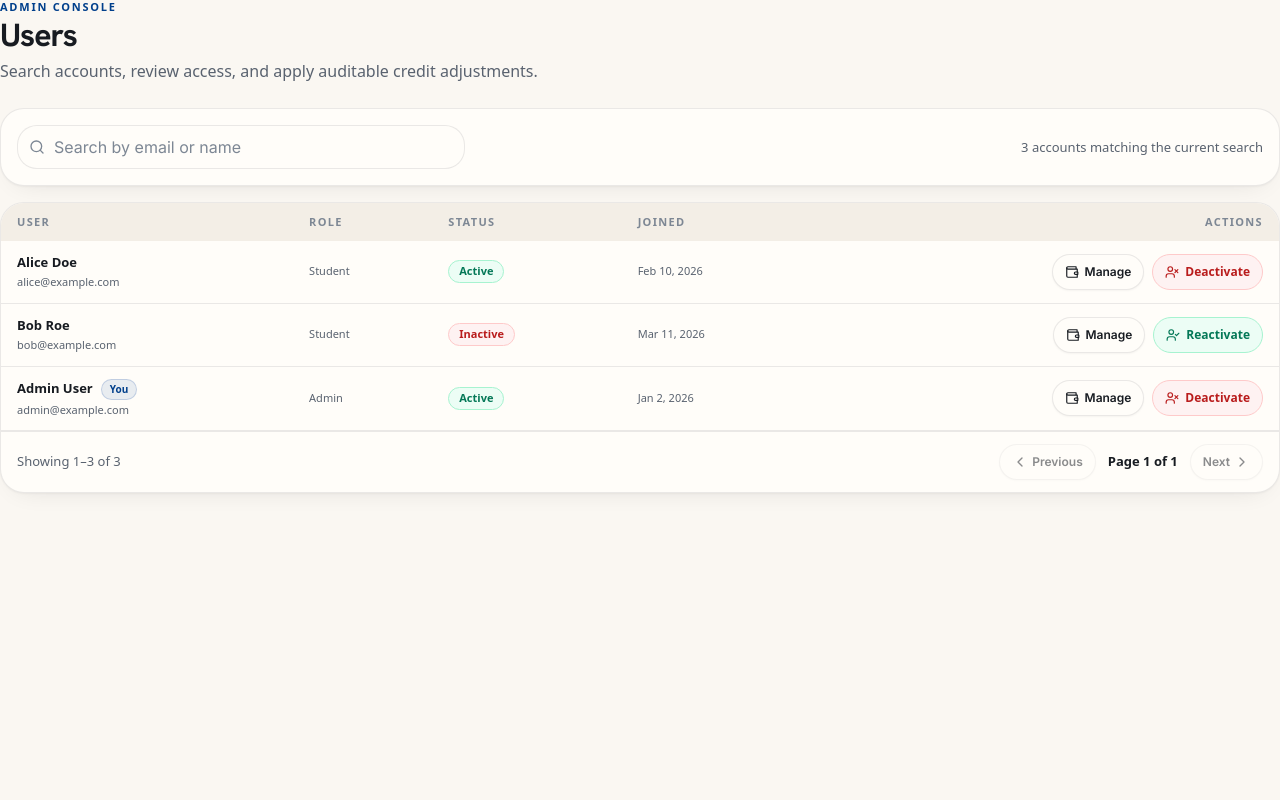
it: AdminUsersPage › deactivates a user through ConfirmDialog and patches is_active
Expected: the text "Alice Doe" is shown, [17, 253, 77, 272]
Click the button with aria-label "deactivate alice@example.com" at [1208, 272], box [1152, 254, 1263, 290]
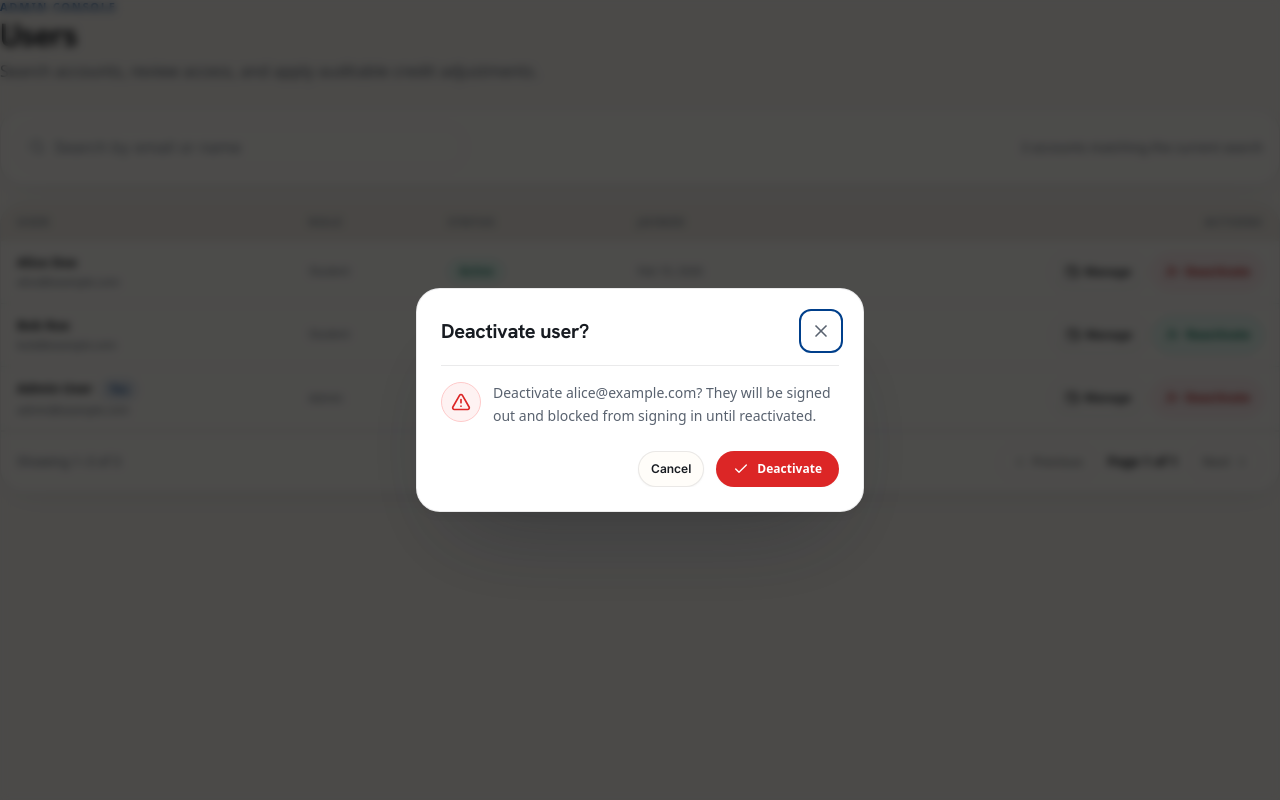
Result: the text "alice@example.com" is shown at [493, 383, 831, 425]
Click the button "Deactivate" at [778, 469], box [716, 451, 839, 487]
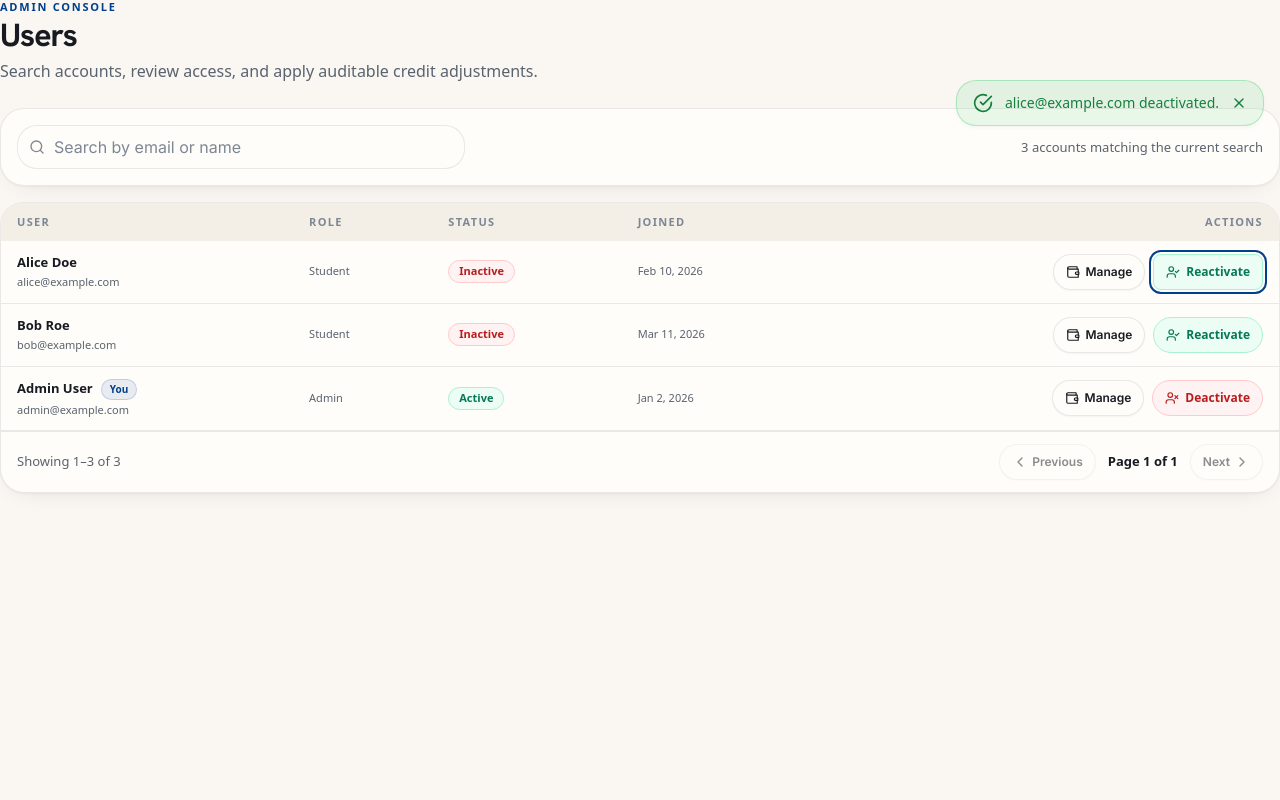
Result: the text "alice@example.com deactivated." is shown at [1005, 93, 1219, 113]
Result: the dialog is gone
